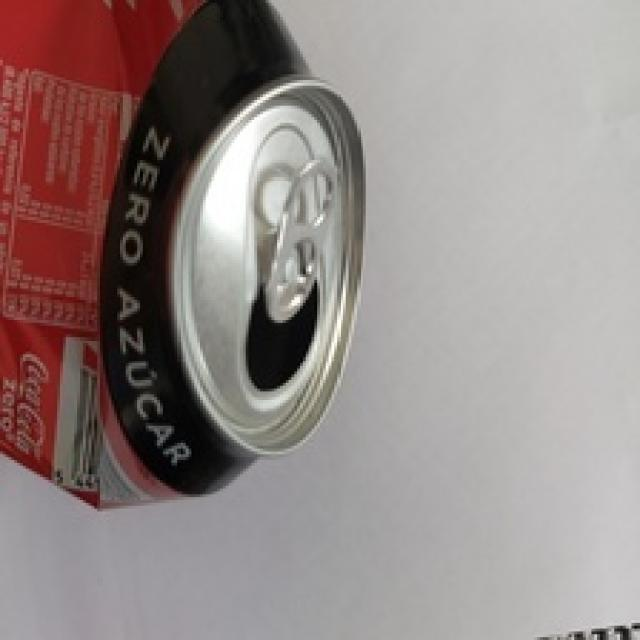recyclable: (0, 0, 370, 511)
